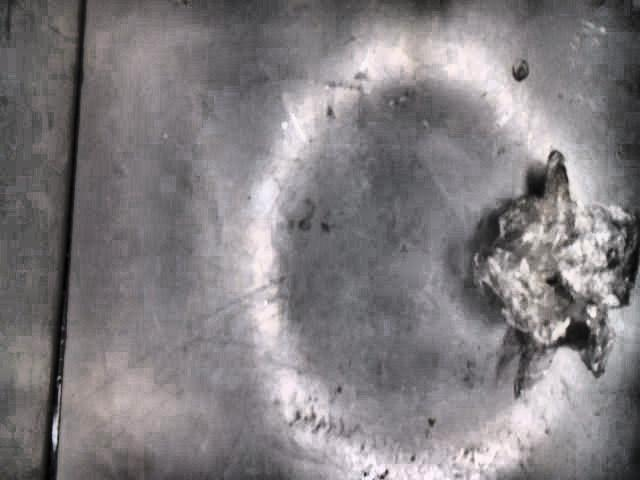Plastic: (460, 140, 640, 382)
